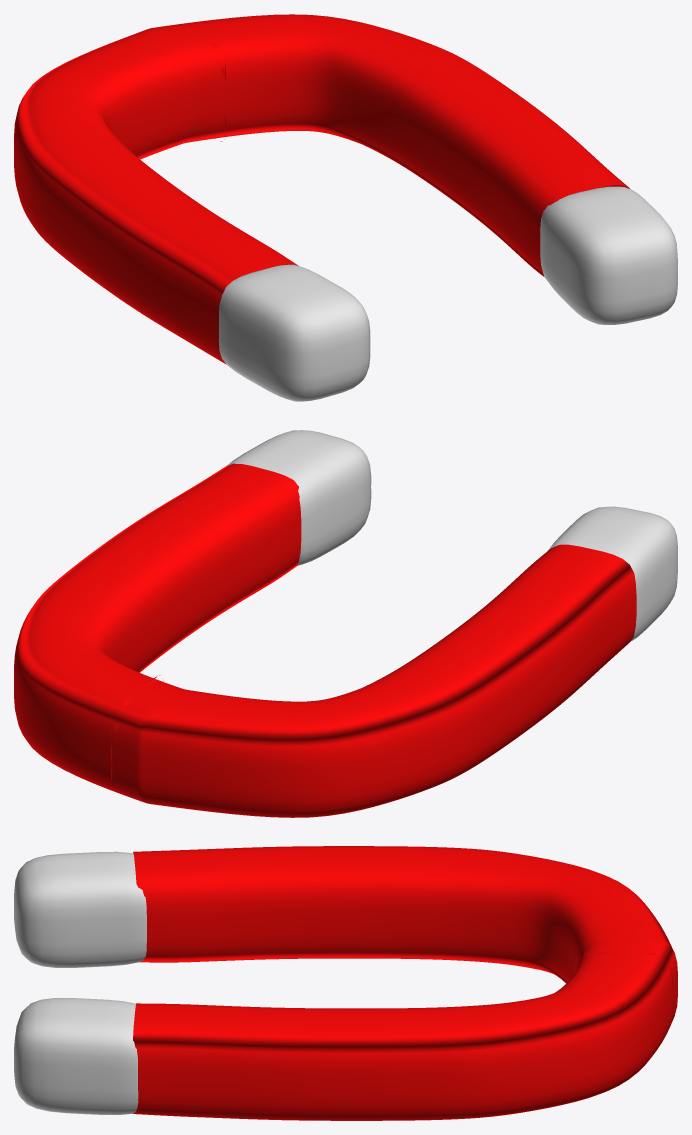
Rendered from magnet.fbx.
3 renders of one model, top to bottom at view 1: azimuth 30°, elevation 25°; view 2: azimuth 150°, elevation 25°; view 3: azimuth 270°, elevation 25°, orthographic. The views are drawn at different scales.
Visible parts, largest first — view 1: magnet; view 2: magnet; view 3: magnet.
Part boxes in pixels (<box>): magnet: <box>14,14,677,401</box>; magnet: <box>14,430,677,817</box>; magnet: <box>14,846,677,1120</box>.
Size of what is drawn, in the model's own units: 6.98 by 1.44 by 9.58.
